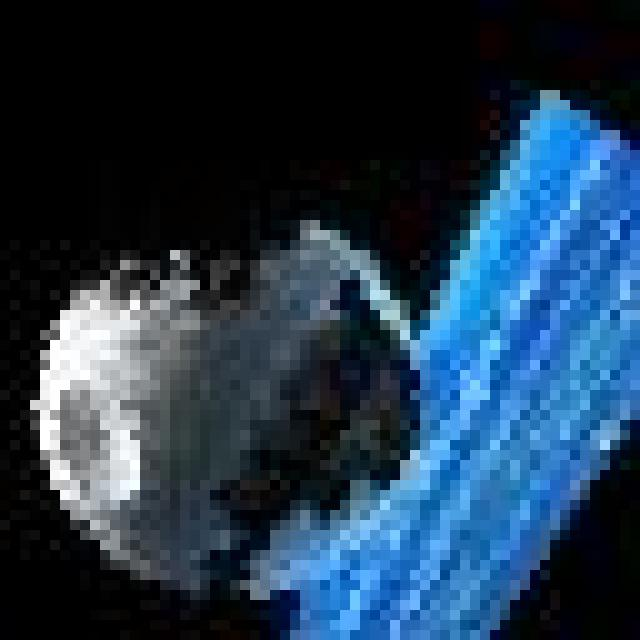Death Star: (34, 222, 428, 594)
